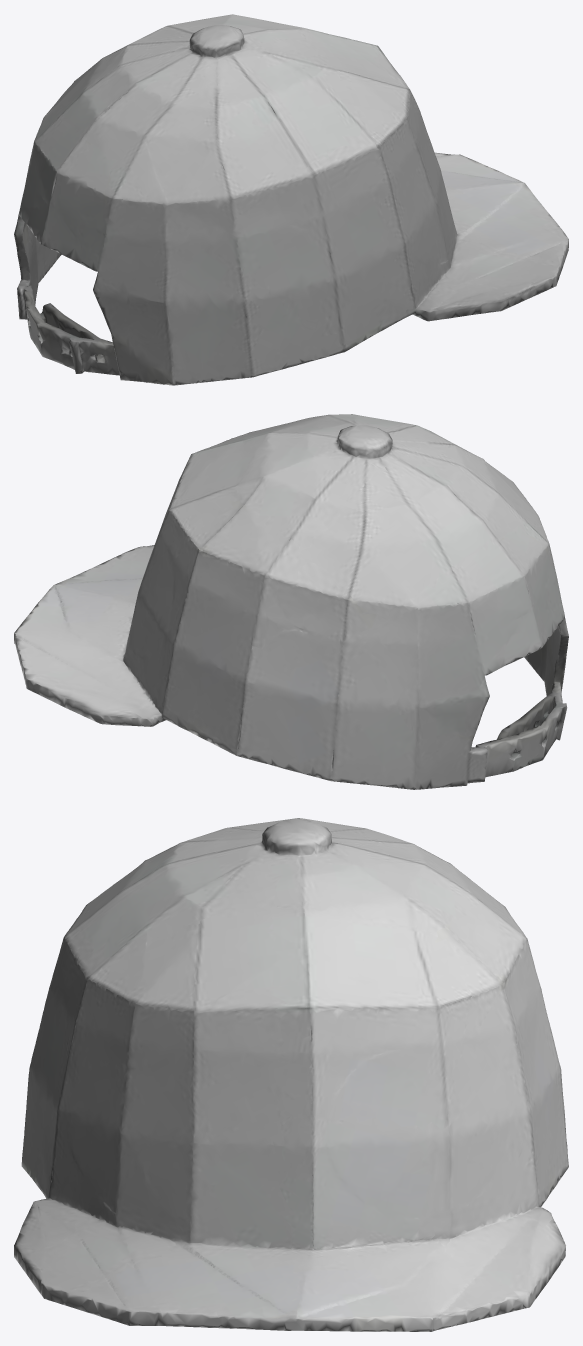
The model's file is farda_bone.glb.
3 views of the same model, one above another, from view 1: azimuth 30°, elevation 25°; view 2: azimuth 150°, elevation 25°; view 3: azimuth 270°, elevation 25° (orthographic). The views are drawn at different scales.
Visible parts, largest first — view 1: tripo_node_b55b700c-d4d5-4d39-acc3-1a48a7d58194; view 2: tripo_node_b55b700c-d4d5-4d39-acc3-1a48a7d58194; view 3: tripo_node_b55b700c-d4d5-4d39-acc3-1a48a7d58194.
Boxes of the visible parts, left/top/right/bottom form: tripo_node_b55b700c-d4d5-4d39-acc3-1a48a7d58194: left=14, top=14, right=568, bottom=385; tripo_node_b55b700c-d4d5-4d39-acc3-1a48a7d58194: left=14, top=414, right=568, bottom=789; tripo_node_b55b700c-d4d5-4d39-acc3-1a48a7d58194: left=14, top=818, right=568, bottom=1331.
Size of the model in its own units: 0.9989 by 0.5554 by 0.7532.
1 material, 1 textured.
